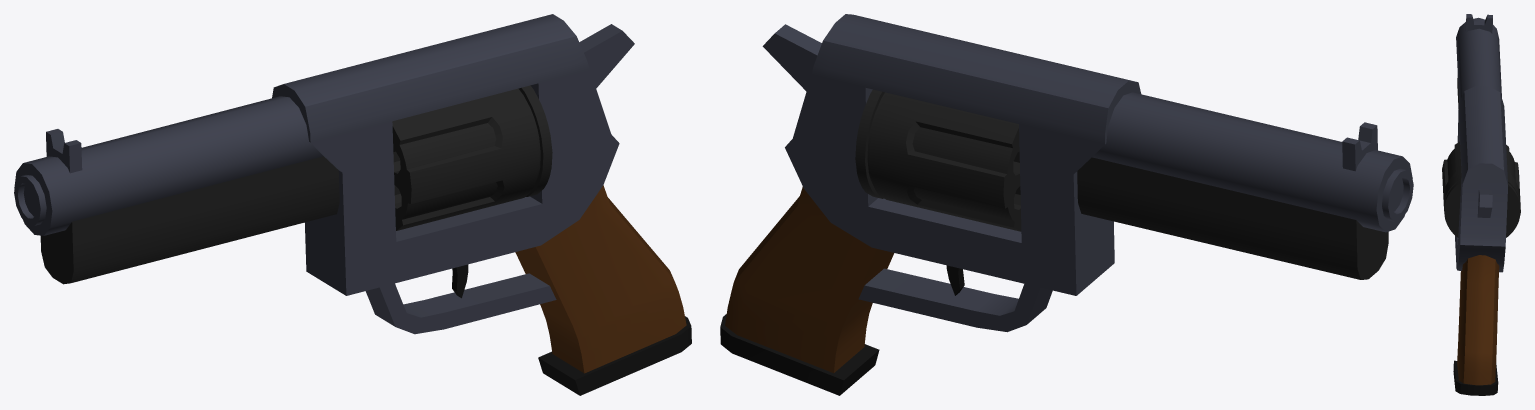
The model's file is Revolver.obj.
3 renders of one model, left to right at view 1: azimuth 30°, elevation 25°; view 2: azimuth 150°, elevation 25°; view 3: azimuth 270°, elevation 25°, orthographic. The views are drawn at different scales.
Parts seen in each view (by area): view 1: Revolver_Cube.016; view 2: Revolver_Cube.016; view 3: Revolver_Cube.016.
Boxes of the visible parts, <box> form: Revolver_Cube.016: <box>14,14,691,395</box>; Revolver_Cube.016: <box>720,14,1413,395</box>; Revolver_Cube.016: <box>1442,14,1520,395</box>.
Bounding box in the file's own units: 0.9888 × 0.5289 × 0.1751.
